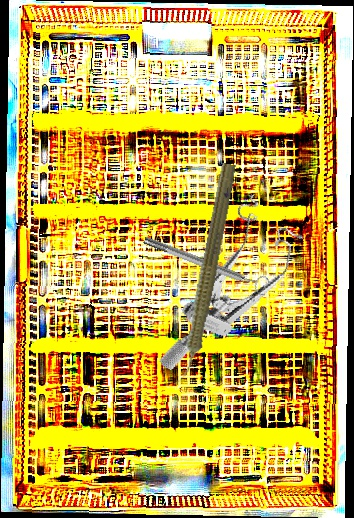Fixation Ring: (140, 229, 272, 298)
Handpiece: (170, 161, 240, 388)
Speculum: (157, 186, 312, 398)
